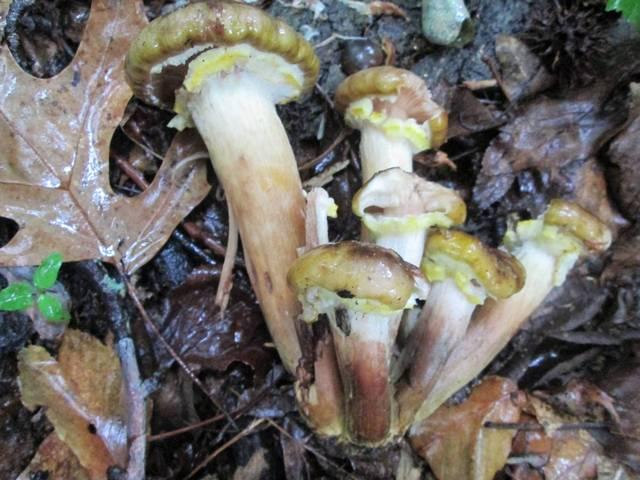Edible Mushroom: (123, 0, 325, 378), (286, 238, 427, 448), (334, 57, 470, 236), (399, 234, 510, 380), (508, 187, 622, 309)
